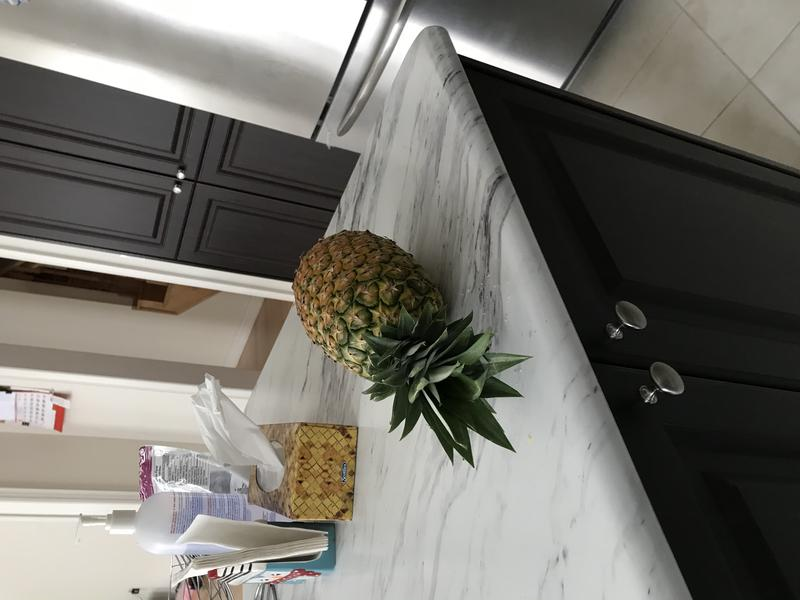pineapple: (286, 223, 538, 478)
